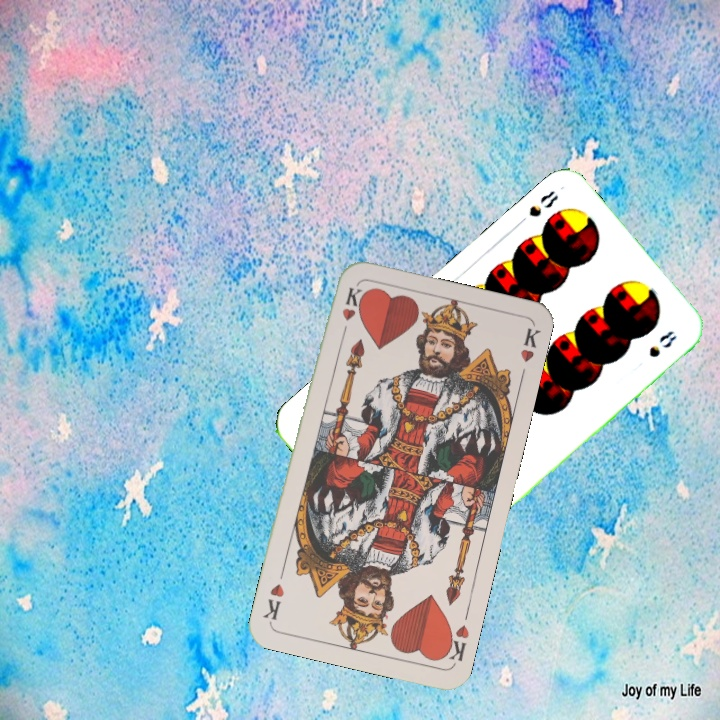HK: (438, 620, 472, 666), (336, 283, 362, 342)
S8: (512, 186, 561, 229)
